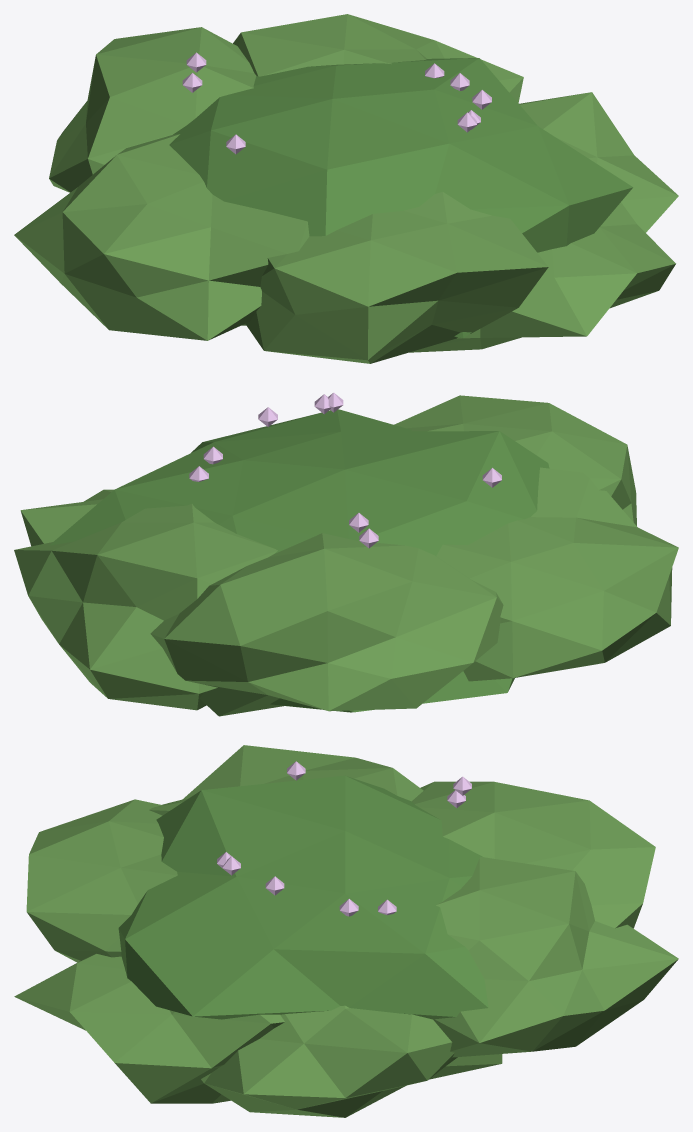
Rendered from oregano.glb.
The picture shows the model from 3 angles, top to bottom: view 1: azimuth 30°, elevation 25°; view 2: azimuth 150°, elevation 25°; view 3: azimuth 270°, elevation 25°; orthographic projection. The views are drawn at different scales.
Parts seen in each view (by area): view 1: oregano; view 2: oregano; view 3: oregano.
Part boxes in pixels (bbox=[...]): oregano: bbox=[14, 14, 678, 363]; oregano: bbox=[14, 392, 678, 716]; oregano: bbox=[14, 745, 678, 1117].
Bounding box in the file's own units: 0.7303 × 0.2719 × 0.7385.
